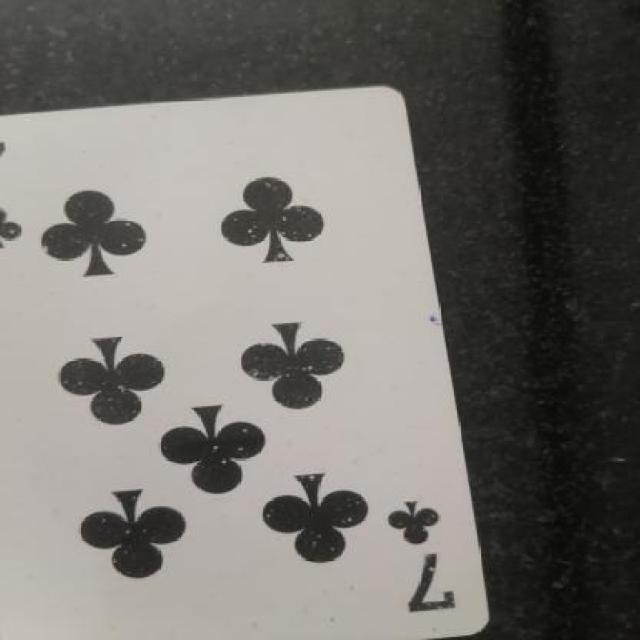7C: (381, 486, 487, 631)
